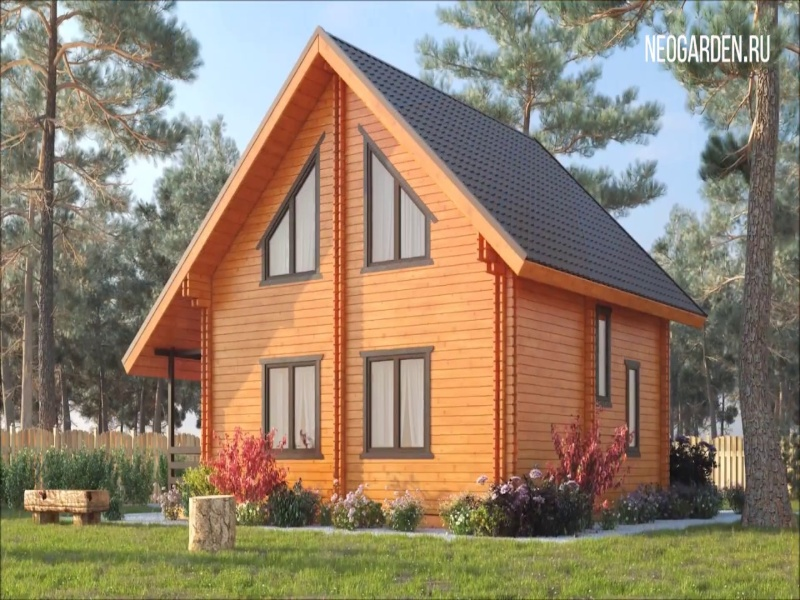window: (351, 109, 436, 268), (251, 129, 326, 275), (364, 349, 436, 456), (265, 353, 324, 449)
